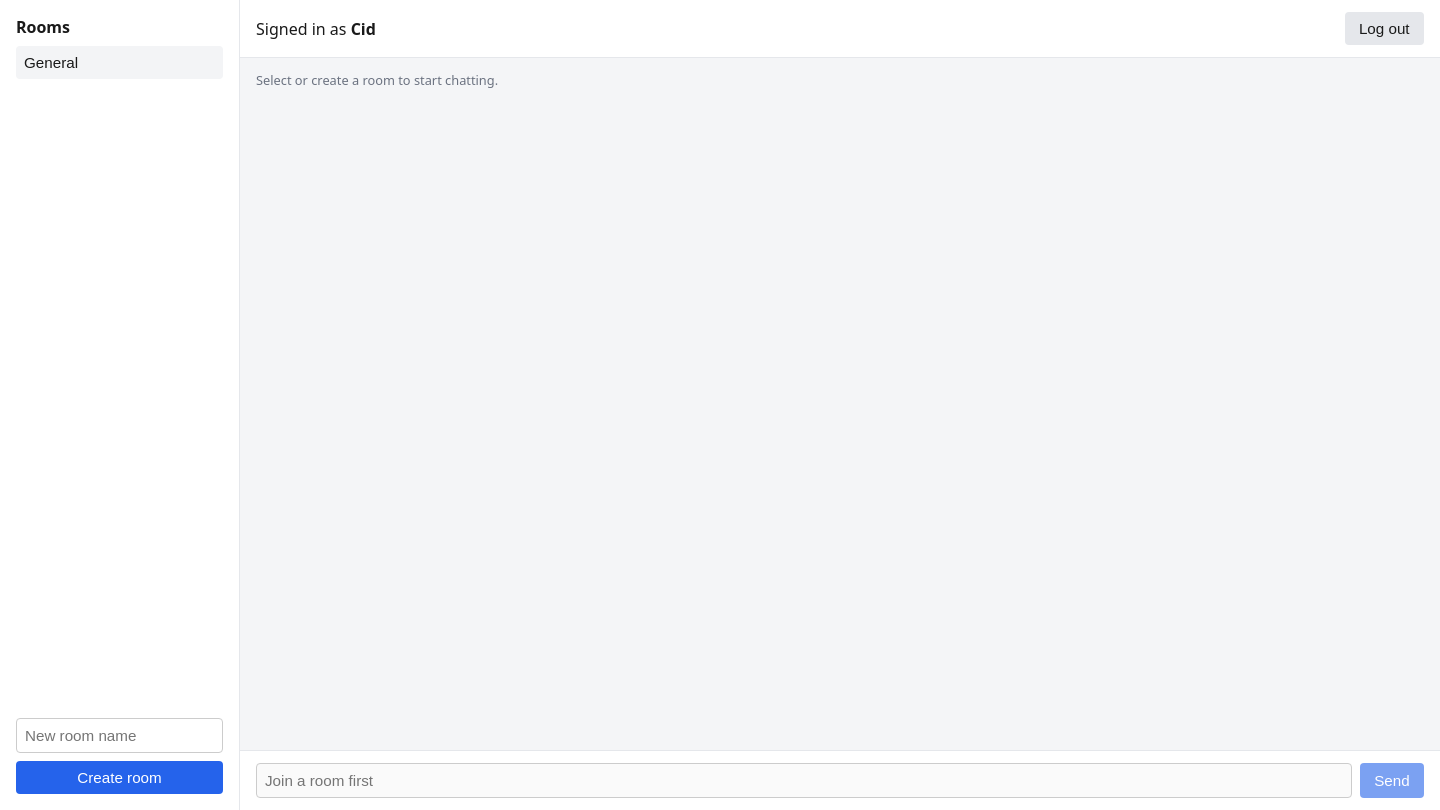
Test case: ChatPage › shows the API error message when createRoom rejects with a duplicate-name error
Expected: the button "General" is shown, [16,46,223,79]
Step 1. Type "general" into the field with placeholder "New room name" → [120, 736], box [16,718,223,753]
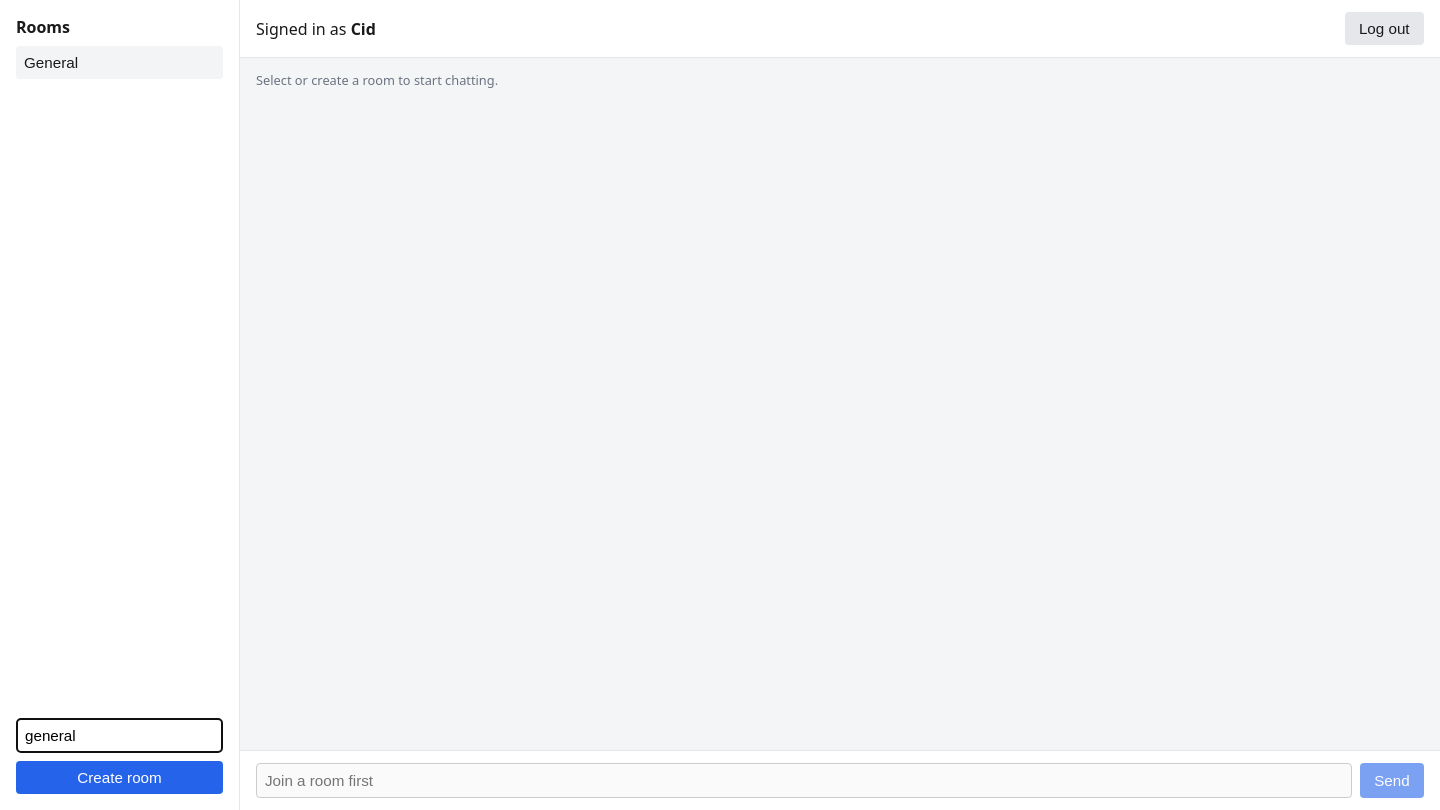
Step 2. Click the button "Create room" → [120, 778], box [16,761,223,794]
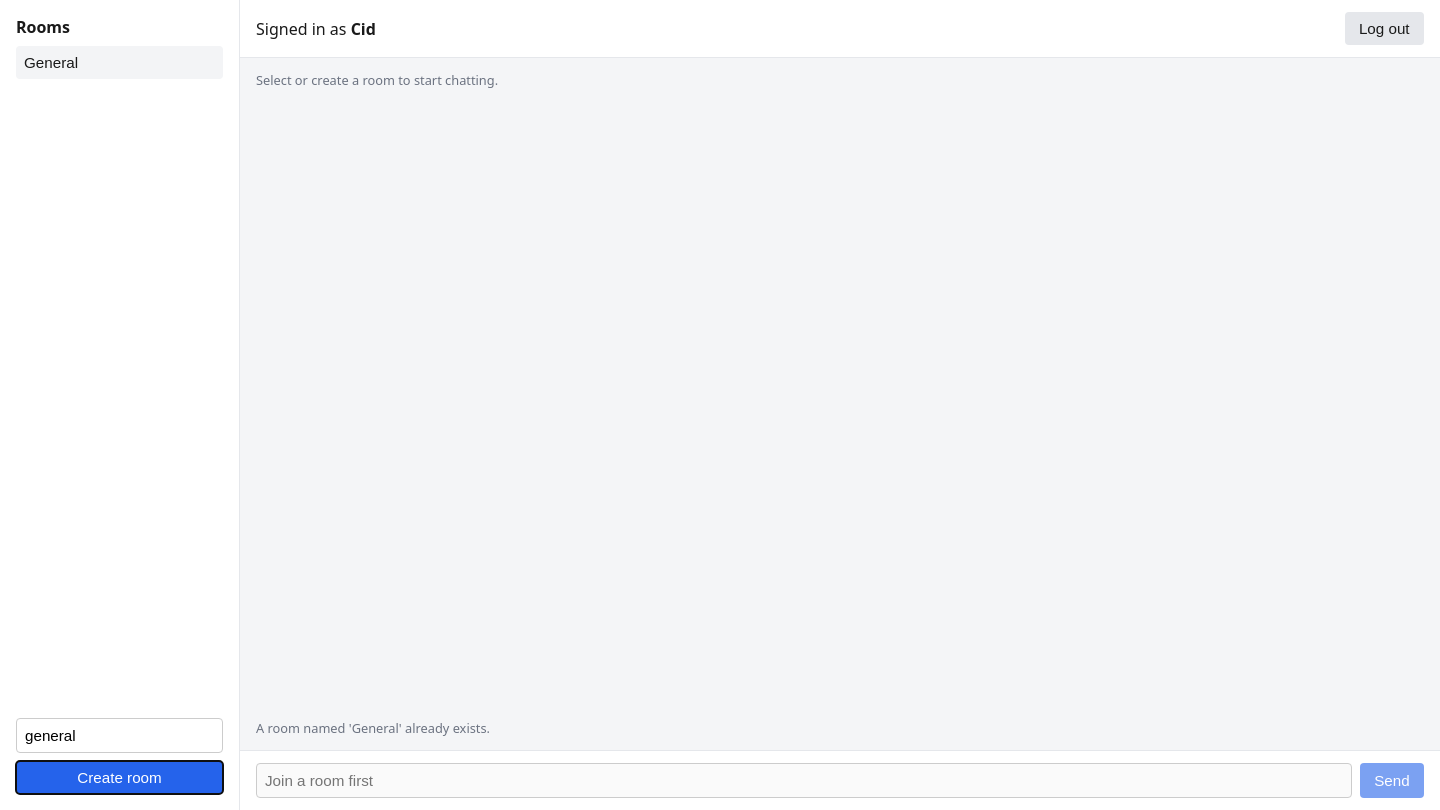
Now the text "A room named 'General' already exists." is shown, box [256,719,490,737]
